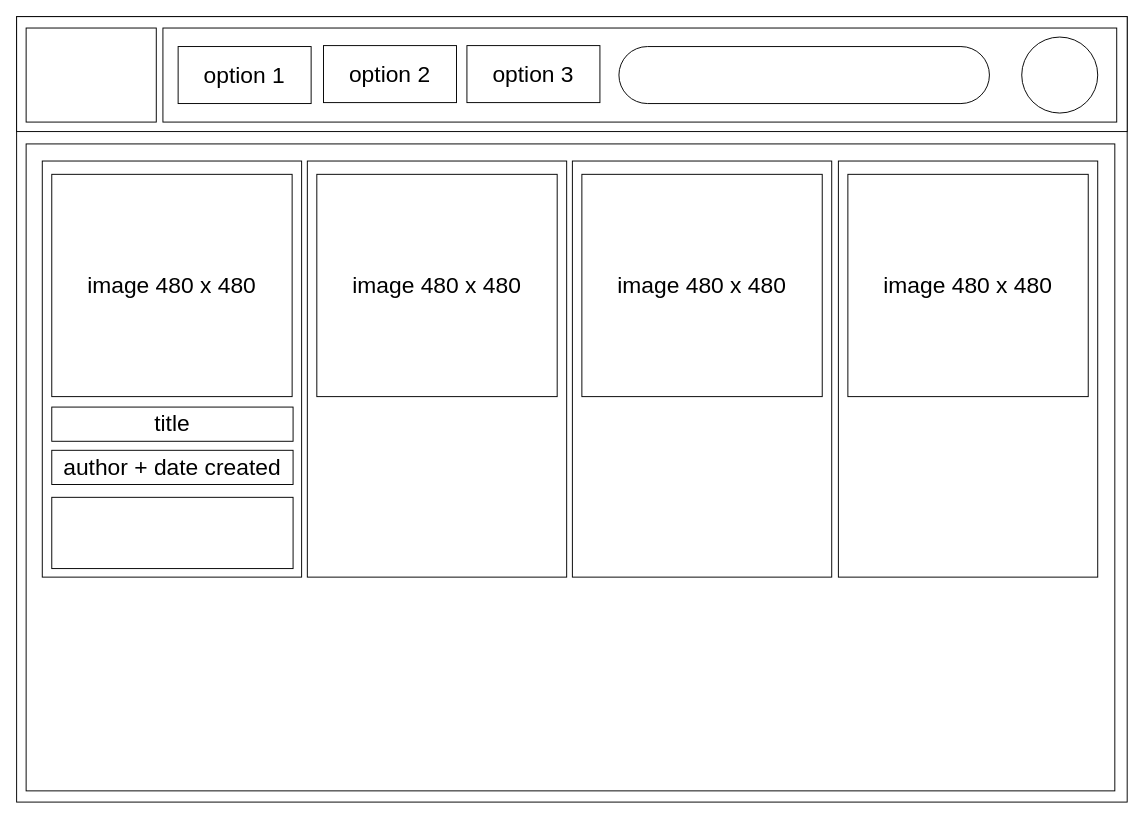
This 1144x819 diagram has some shape labels left out. The shapes that lost their labels are listed below. From the top down, each one's centre as x and y in pixels, then its label:
the point at 90,74: logo
the point at 803,75: search bar
the point at 1059,74: user
the point at 172,532: short description
